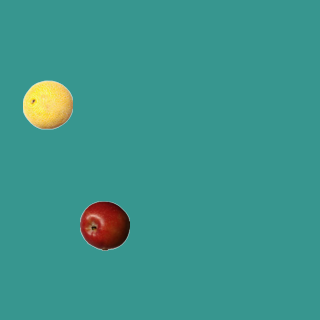Apple Braeburn: (79, 200, 129, 250)
Cantaloupe 1: (22, 79, 72, 129)
